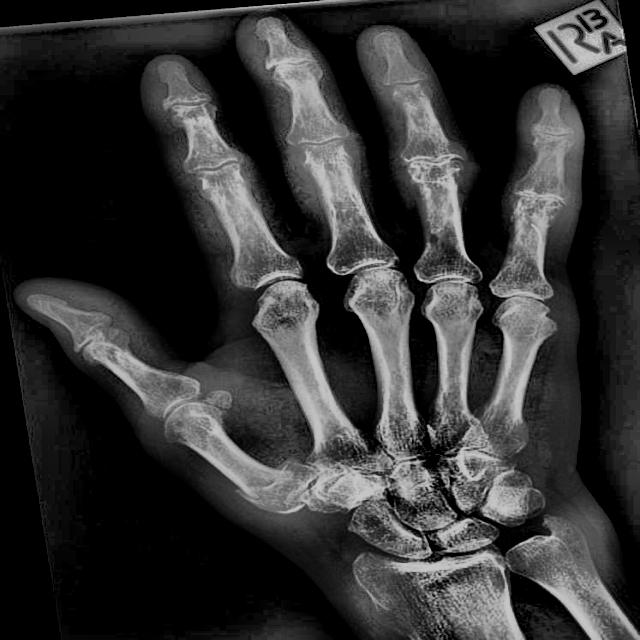fracture: (399, 148, 476, 190), (236, 457, 293, 507), (504, 190, 570, 224), (102, 328, 128, 348)
